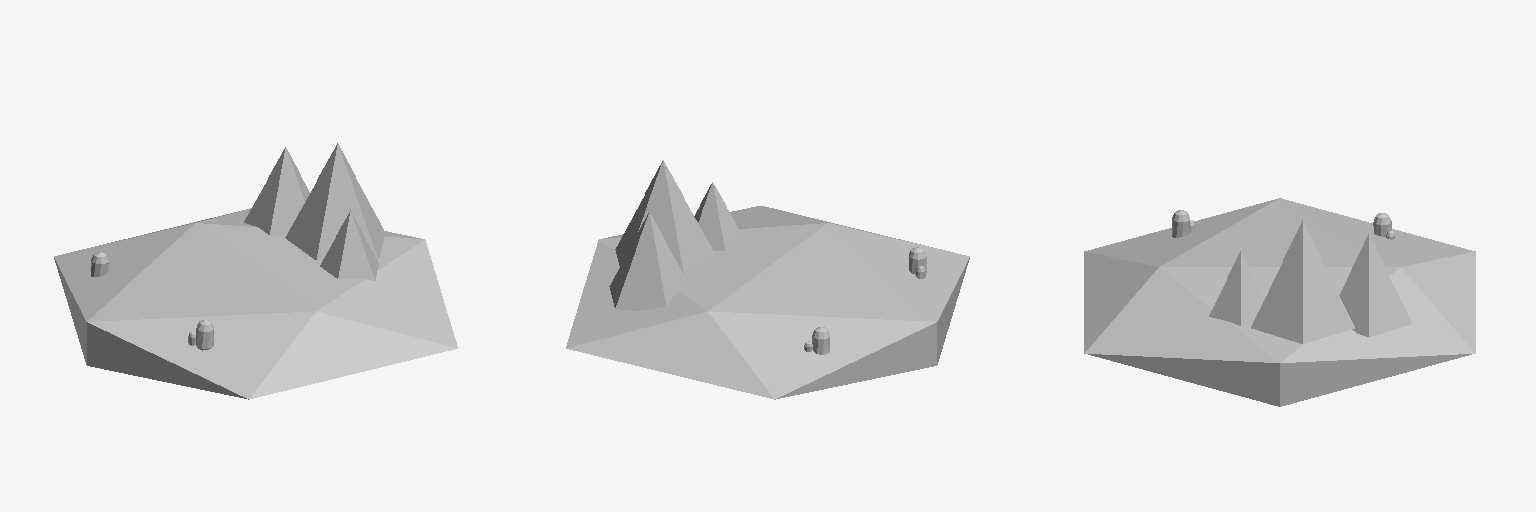
Rendered from simple_terrain.obj.
3 renders of one model, left to right at view 1: azimuth 30°, elevation 25°; view 2: azimuth 150°, elevation 25°; view 3: azimuth 270°, elevation 25°, orthographic.
Bounding box in the file's own units: 432 × 200 × 432.